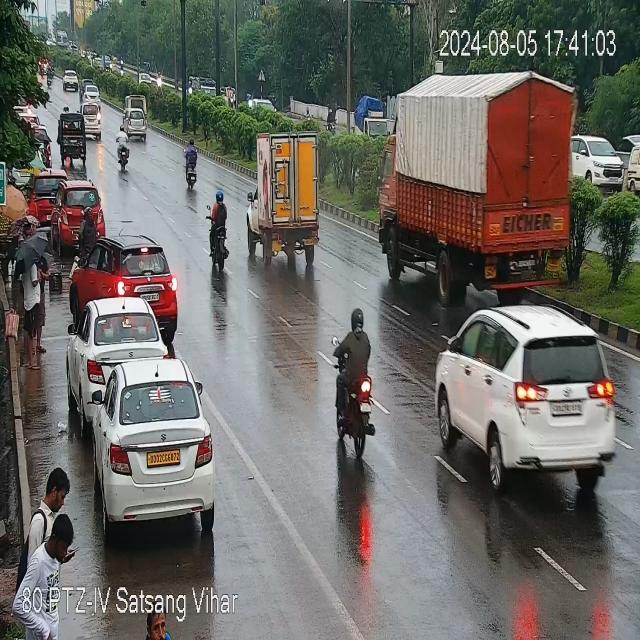2-wheelers: (337, 305, 379, 460), (202, 189, 232, 270), (181, 140, 200, 192), (114, 128, 132, 174)
auto: (57, 112, 88, 148), (625, 128, 640, 195)
car: (430, 307, 616, 495), (89, 360, 214, 530), (67, 234, 184, 336), (72, 301, 168, 410), (53, 185, 108, 241), (29, 168, 68, 218), (121, 90, 154, 136), (84, 104, 103, 134), (62, 69, 82, 91), (80, 83, 100, 103)
pedestrian: (33, 471, 74, 562), (21, 230, 42, 360)
truck: (380, 60, 582, 268), (248, 121, 328, 269)
